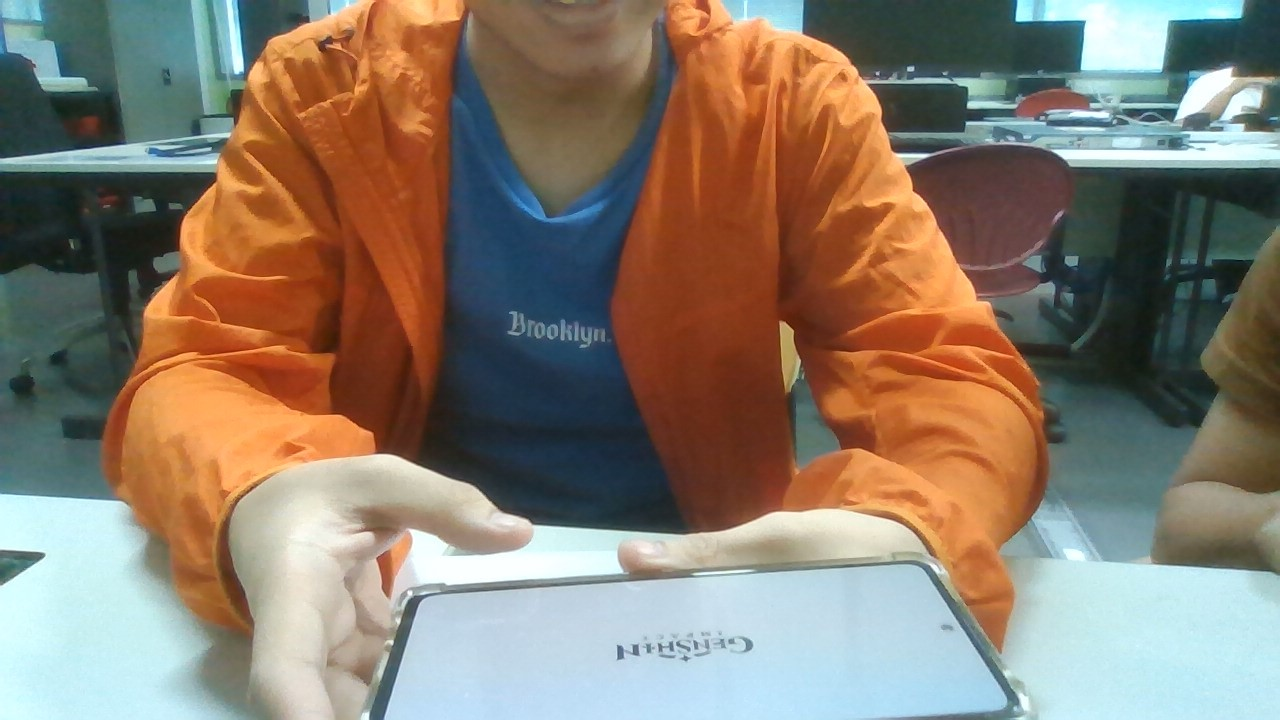phone: (369, 552, 1037, 720)
